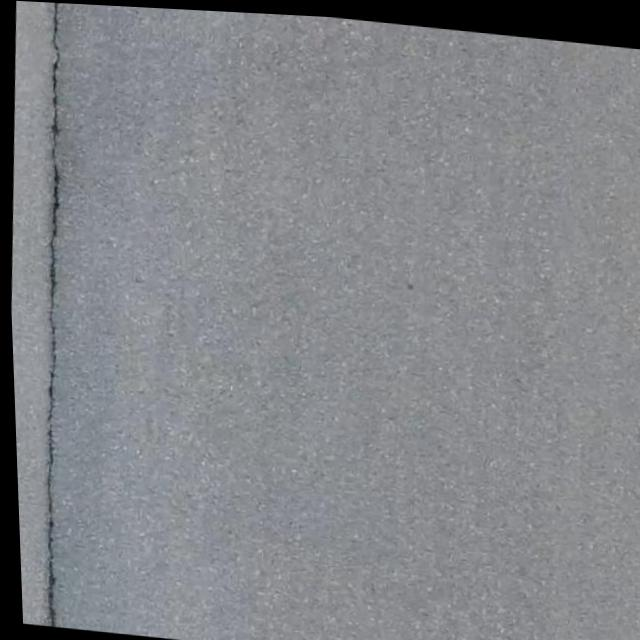Crack: (0, 0, 98, 629)
